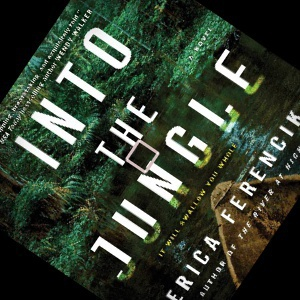square: (125, 137, 161, 174)
